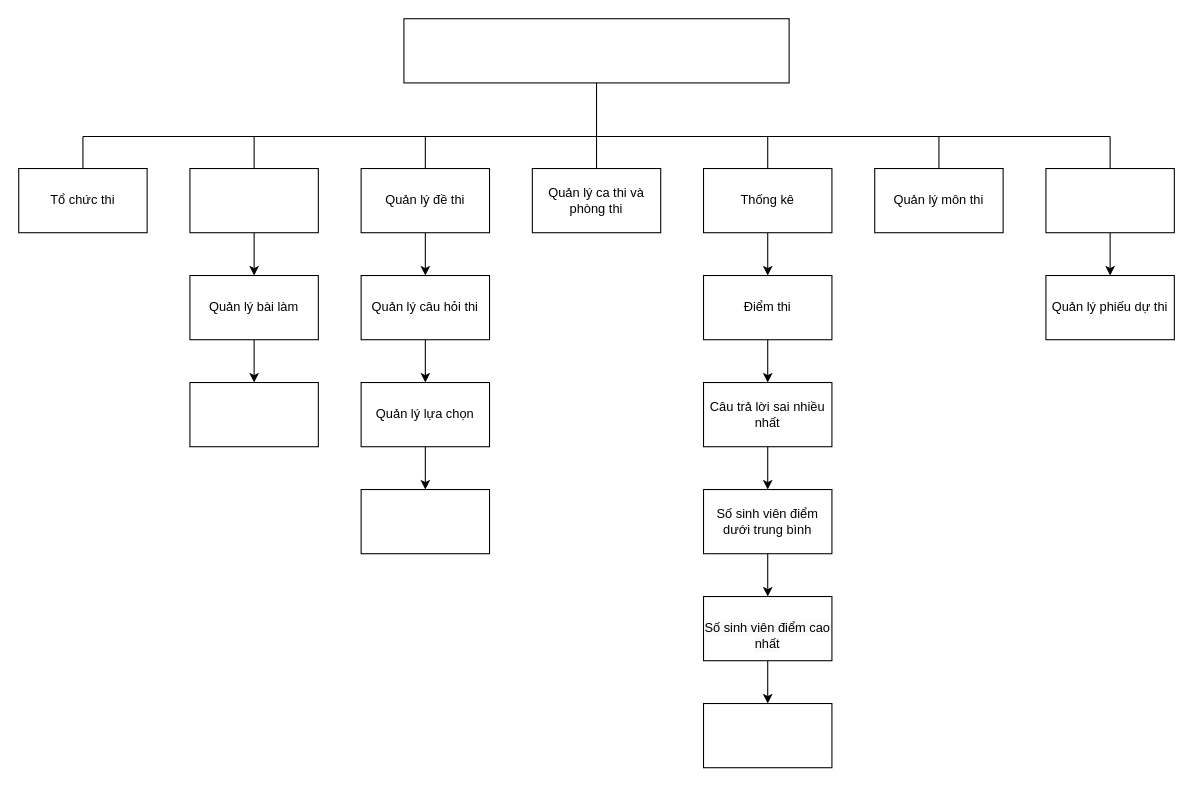
The diagram is 1193 pixels wide and 786 high, and some of its shapes have lost their labels. Here are the shapes that lost their labels. From the top down, the centre of each, then its label:
point (596, 50): Website tổ chức thi trắc nghiệm
point (253, 200): Quản lý kết quả thi
point (1109, 200): Quản lý sinh viên
point (253, 414): Quản lý điểm
point (425, 521): Quản lý đáp án
point (767, 735): Môn có điểm cao/thấp nhất
